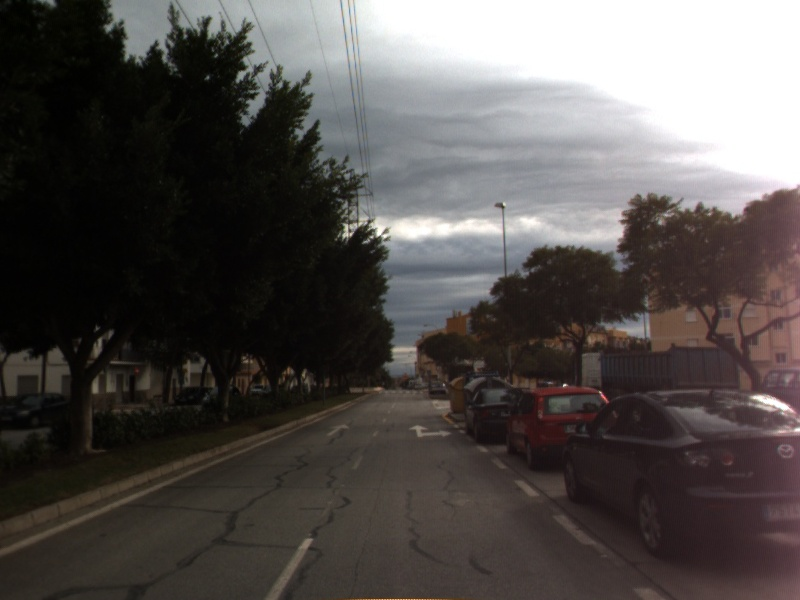STRAIGHT: (324, 422, 351, 438)
STRAIGHT_RIGHT: (407, 422, 455, 440)
